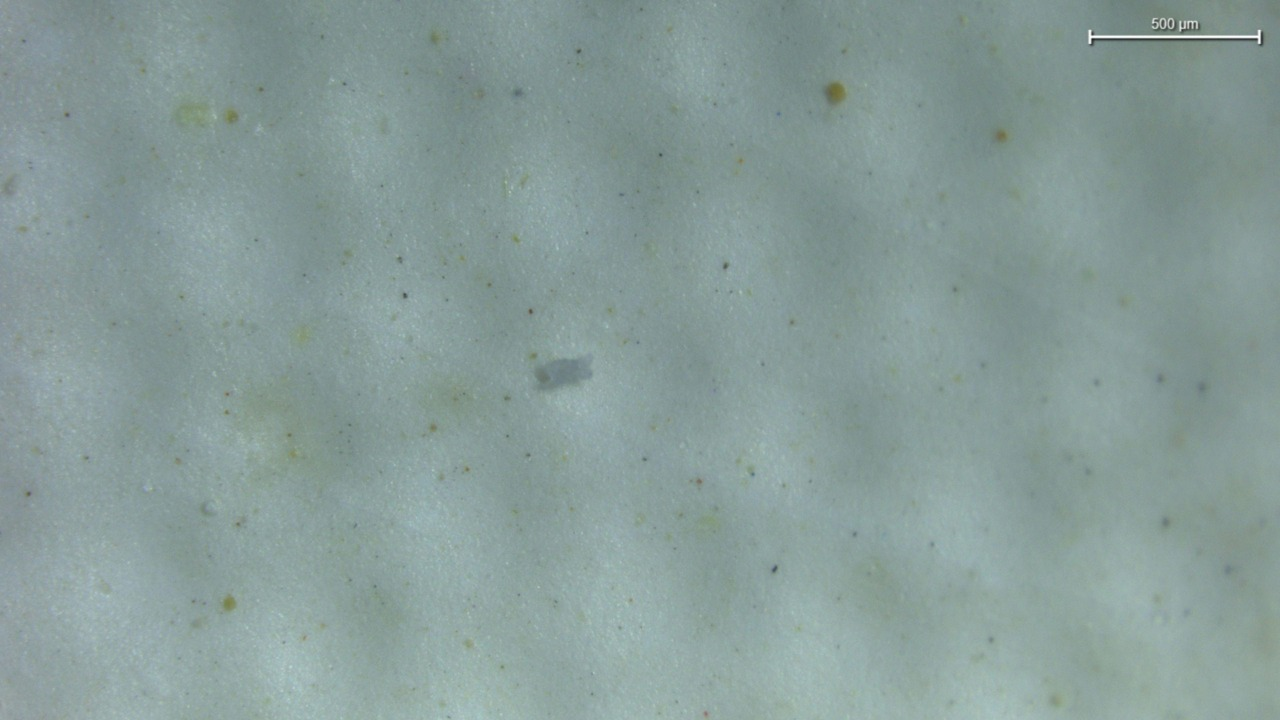microplastic_fragment: (534, 356, 592, 391)
